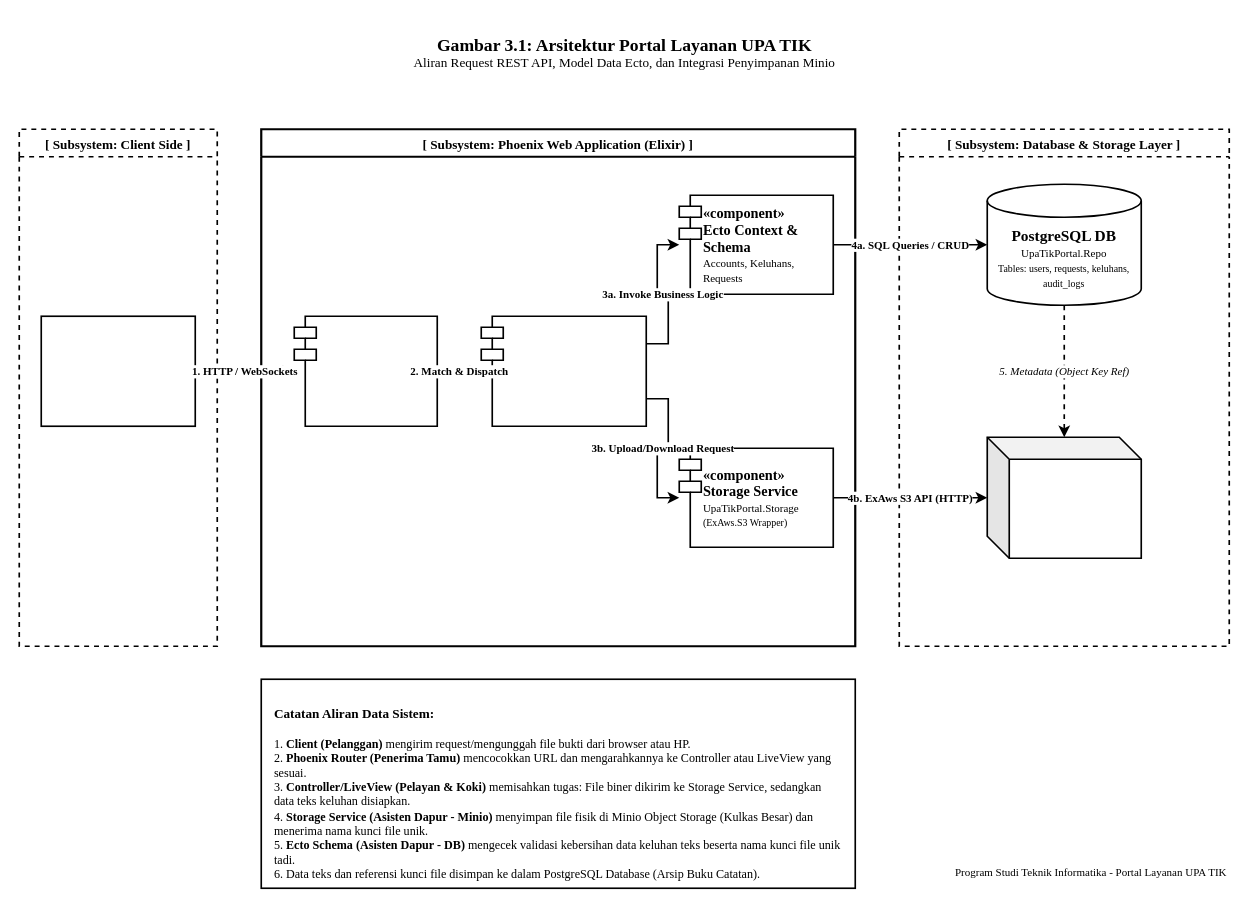
Image size: 1250x908. Some labels were removed from this diagram. Here are the shapes that lost their labels. From the top down, the centre of each, then its label:
the point at 118,371: Client Browser/App Web Browser / Mobile App (HTTP / WebSockets)
the point at 365,371: «component» Phoenix Router UpaTikPortalWeb.Router (router.ex)
the point at 563,371: «component» Controllers & LiveViews StorageController RequestLive, KeluhanLive
the point at 1064,497: Minio Storage Object Storage (S3) Bucket: upa-tik-uploads
